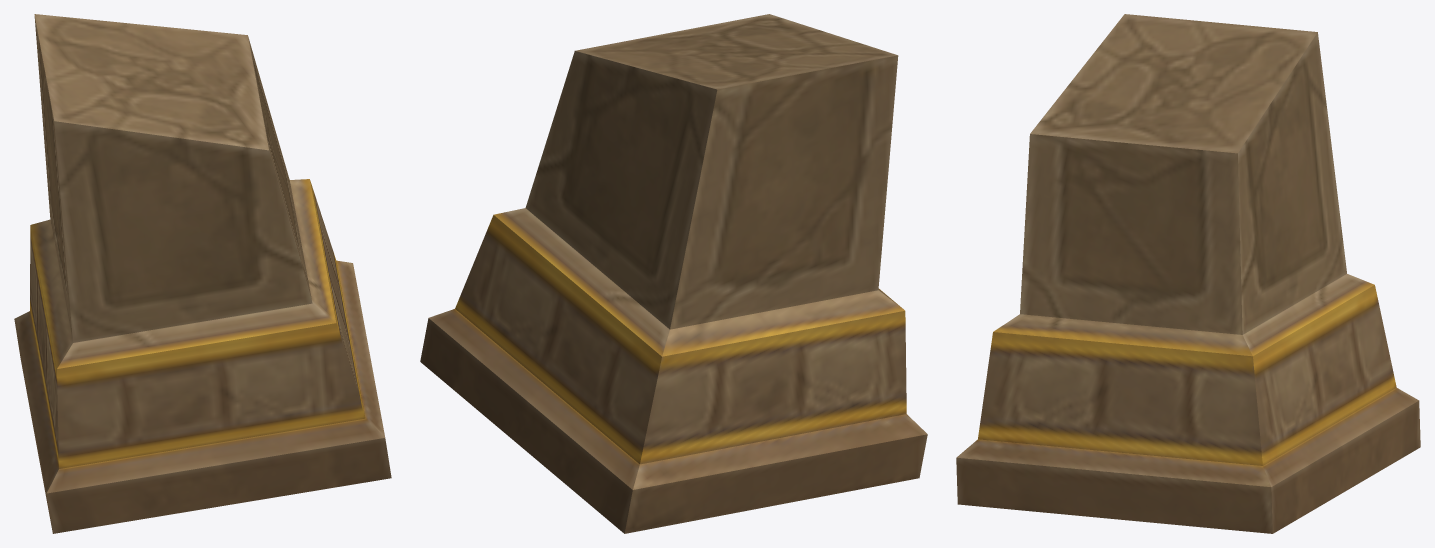
Rendered from bury_ruin.FBX.
3 renders of one model, left to right at view 1: azimuth 30°, elevation 25°; view 2: azimuth 150°, elevation 25°; view 3: azimuth 270°, elevation 25°, orthographic. The views are drawn at different scales.
Visible parts, largest first — view 1: Object018; view 2: Object018; view 3: Object018.
Part boxes in pixels (box(x1,y1,x2,y2)): Object018: box(14, 14, 391, 533); Object018: box(420, 14, 927, 533); Object018: box(956, 14, 1420, 533).
Bounding box in the file's own units: 37.34 × 37.39 × 38.05.
